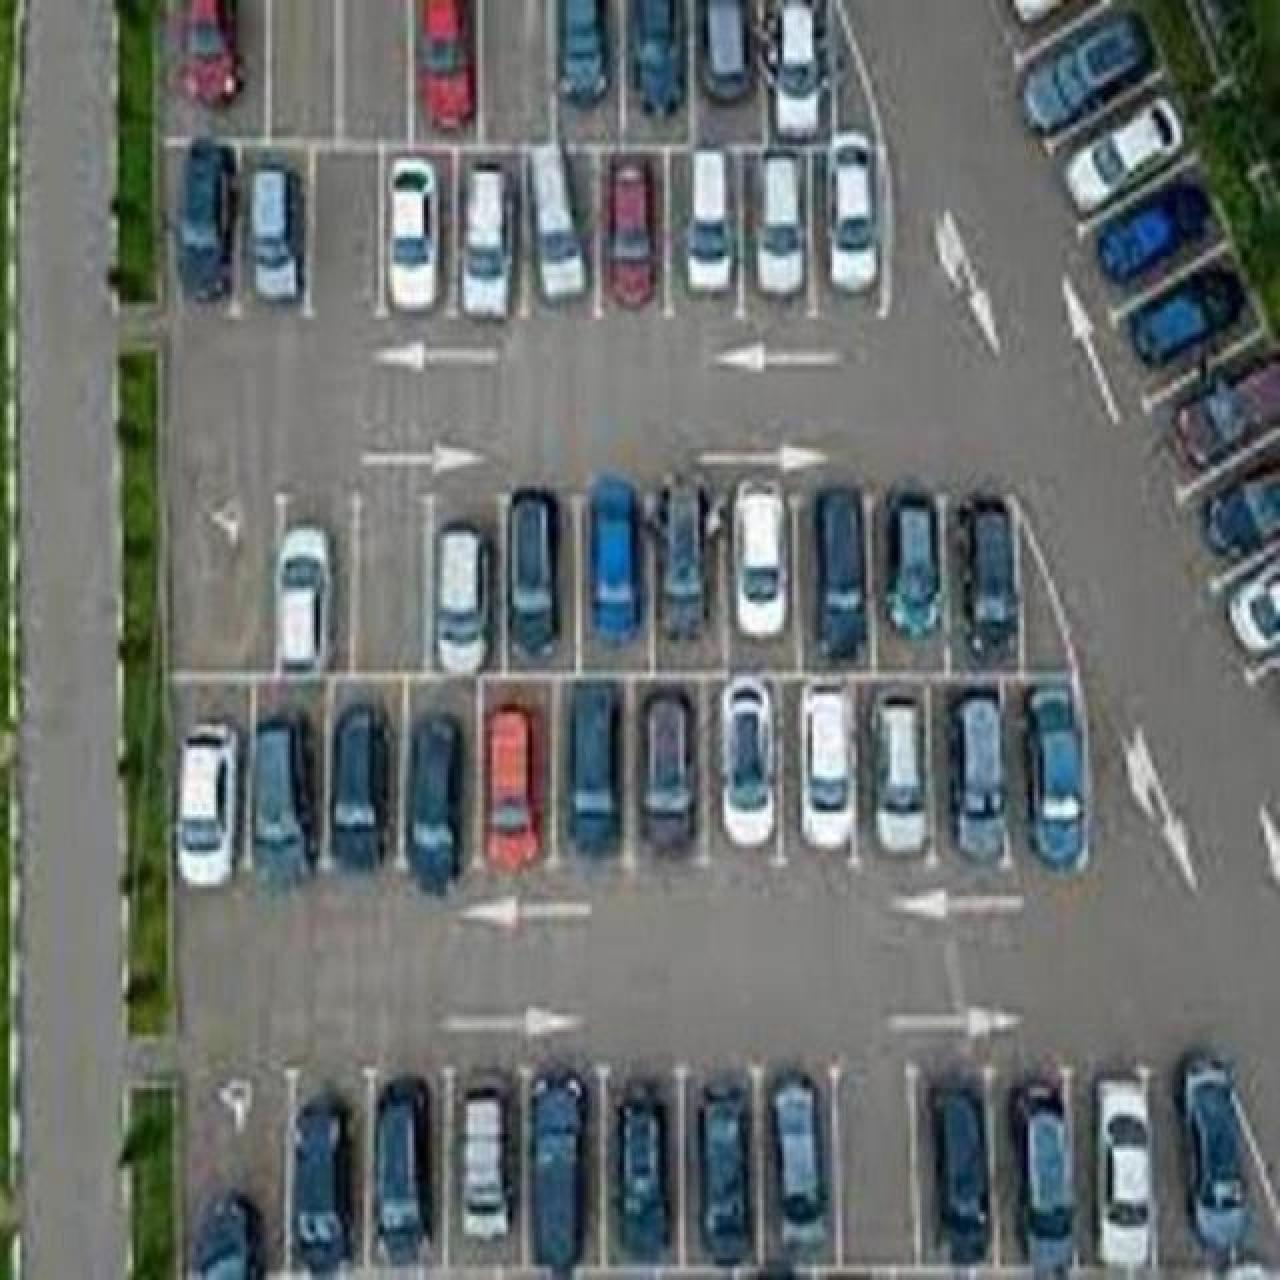car: (1017, 8, 1160, 142), (1176, 1048, 1250, 1262), (1062, 94, 1184, 216), (1008, 1062, 1076, 1278), (1170, 343, 1278, 472), (526, 1064, 590, 1273), (1094, 178, 1214, 284), (1092, 1065, 1155, 1268), (692, 1076, 756, 1267), (1126, 263, 1244, 366), (610, 1076, 673, 1262), (1024, 686, 1088, 871), (288, 1092, 352, 1276), (173, 719, 240, 886), (767, 1073, 829, 1251), (946, 688, 1008, 860), (250, 712, 312, 884), (372, 1076, 428, 1266), (958, 492, 1020, 662), (930, 1084, 988, 1262), (173, 136, 236, 304), (406, 712, 462, 894), (328, 702, 388, 872), (652, 472, 712, 640), (526, 142, 588, 302), (586, 472, 642, 646), (822, 128, 880, 294), (1006, 0, 1112, 91), (484, 702, 540, 874), (760, 0, 828, 141), (813, 484, 869, 658), (731, 476, 790, 638), (506, 486, 560, 662), (433, 518, 492, 674), (719, 678, 774, 846), (881, 486, 942, 638), (872, 692, 928, 855), (804, 686, 858, 853), (458, 159, 515, 320), (640, 688, 694, 852), (274, 524, 334, 672), (384, 156, 440, 312), (568, 682, 618, 855), (1200, 454, 1278, 561), (166, 0, 241, 108), (414, 0, 476, 130), (604, 156, 656, 308), (753, 148, 806, 297), (246, 162, 302, 302), (682, 147, 734, 294), (459, 1085, 508, 1240), (628, 0, 688, 120), (188, 1186, 264, 1278), (697, 0, 758, 104), (1226, 549, 1278, 662), (556, 0, 610, 108), (1005, 0, 1110, 26)
